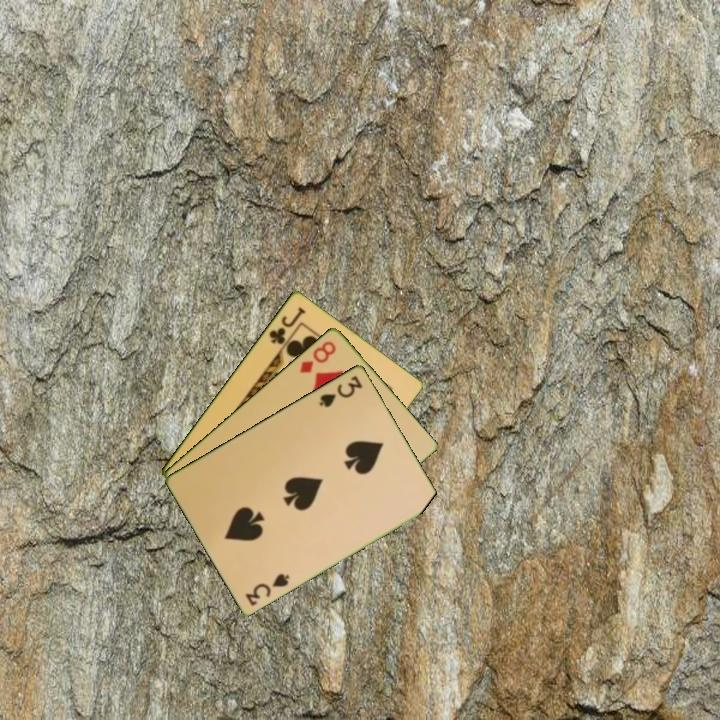3s: (242, 569, 293, 608), (315, 371, 365, 410)
8d: (296, 337, 339, 376)
Jc: (265, 303, 308, 347)
